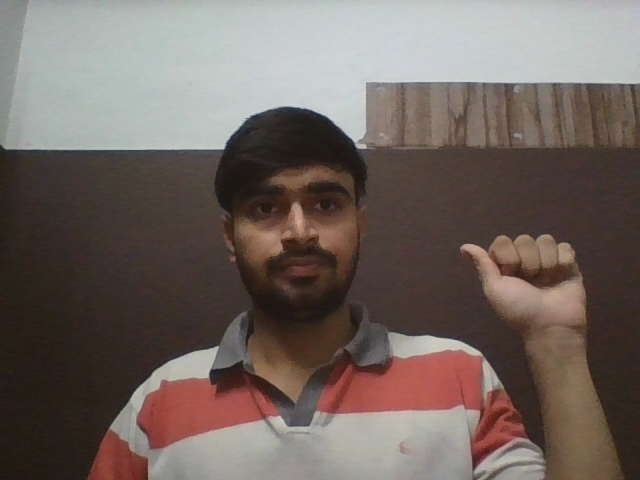A: (458, 234, 588, 335)
